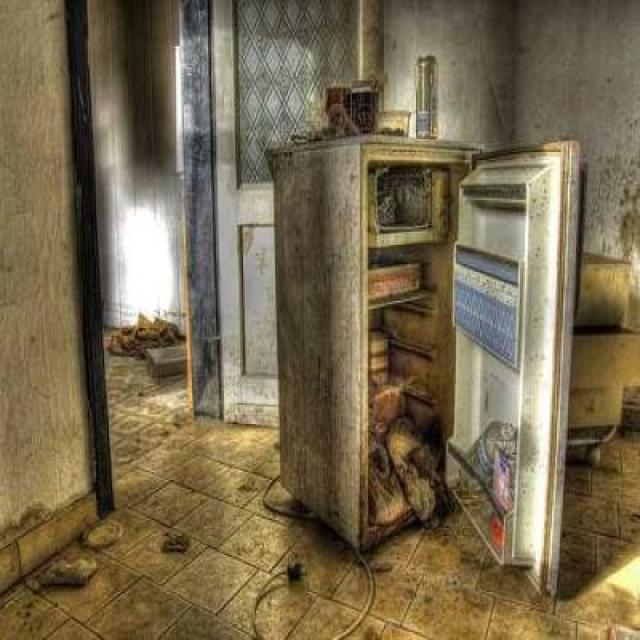refrigerator: (356, 132, 554, 564)
